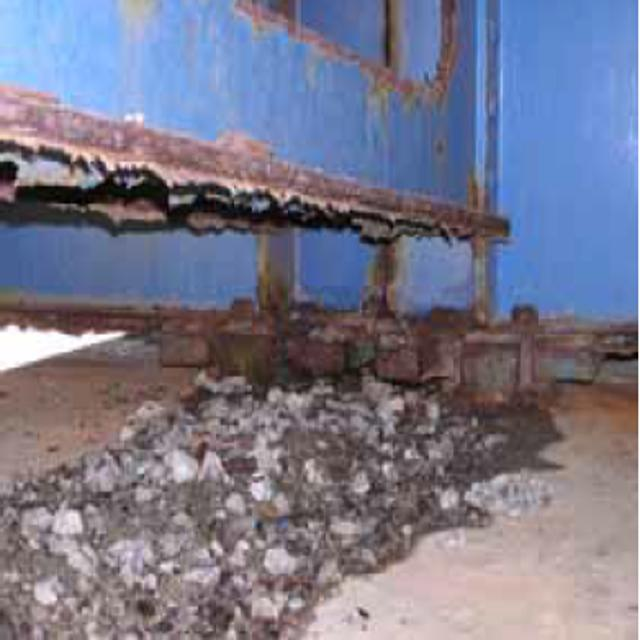corrosion: (6, 67, 550, 402)
